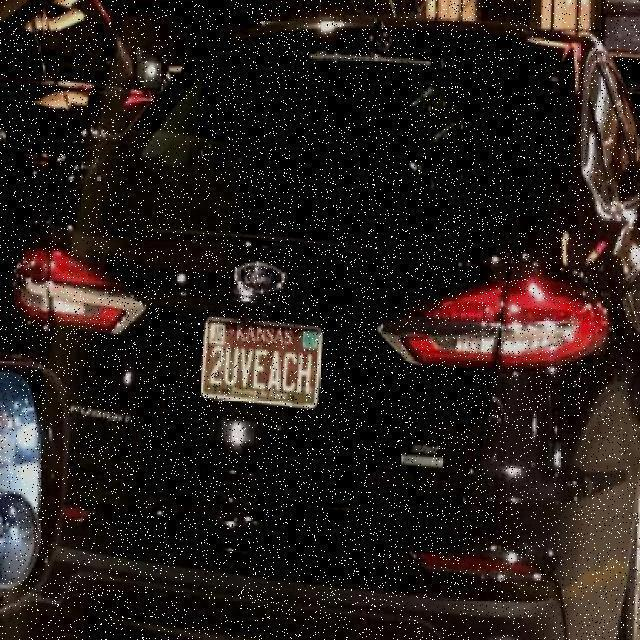license-plate: (202, 320, 374, 450)
